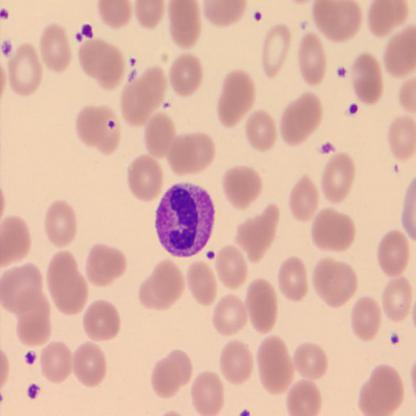Segmented neutrophil: (154, 180, 215, 259)
